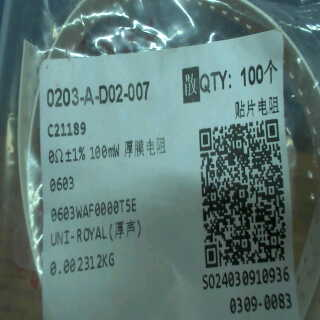0R: (43, 141, 121, 197)
